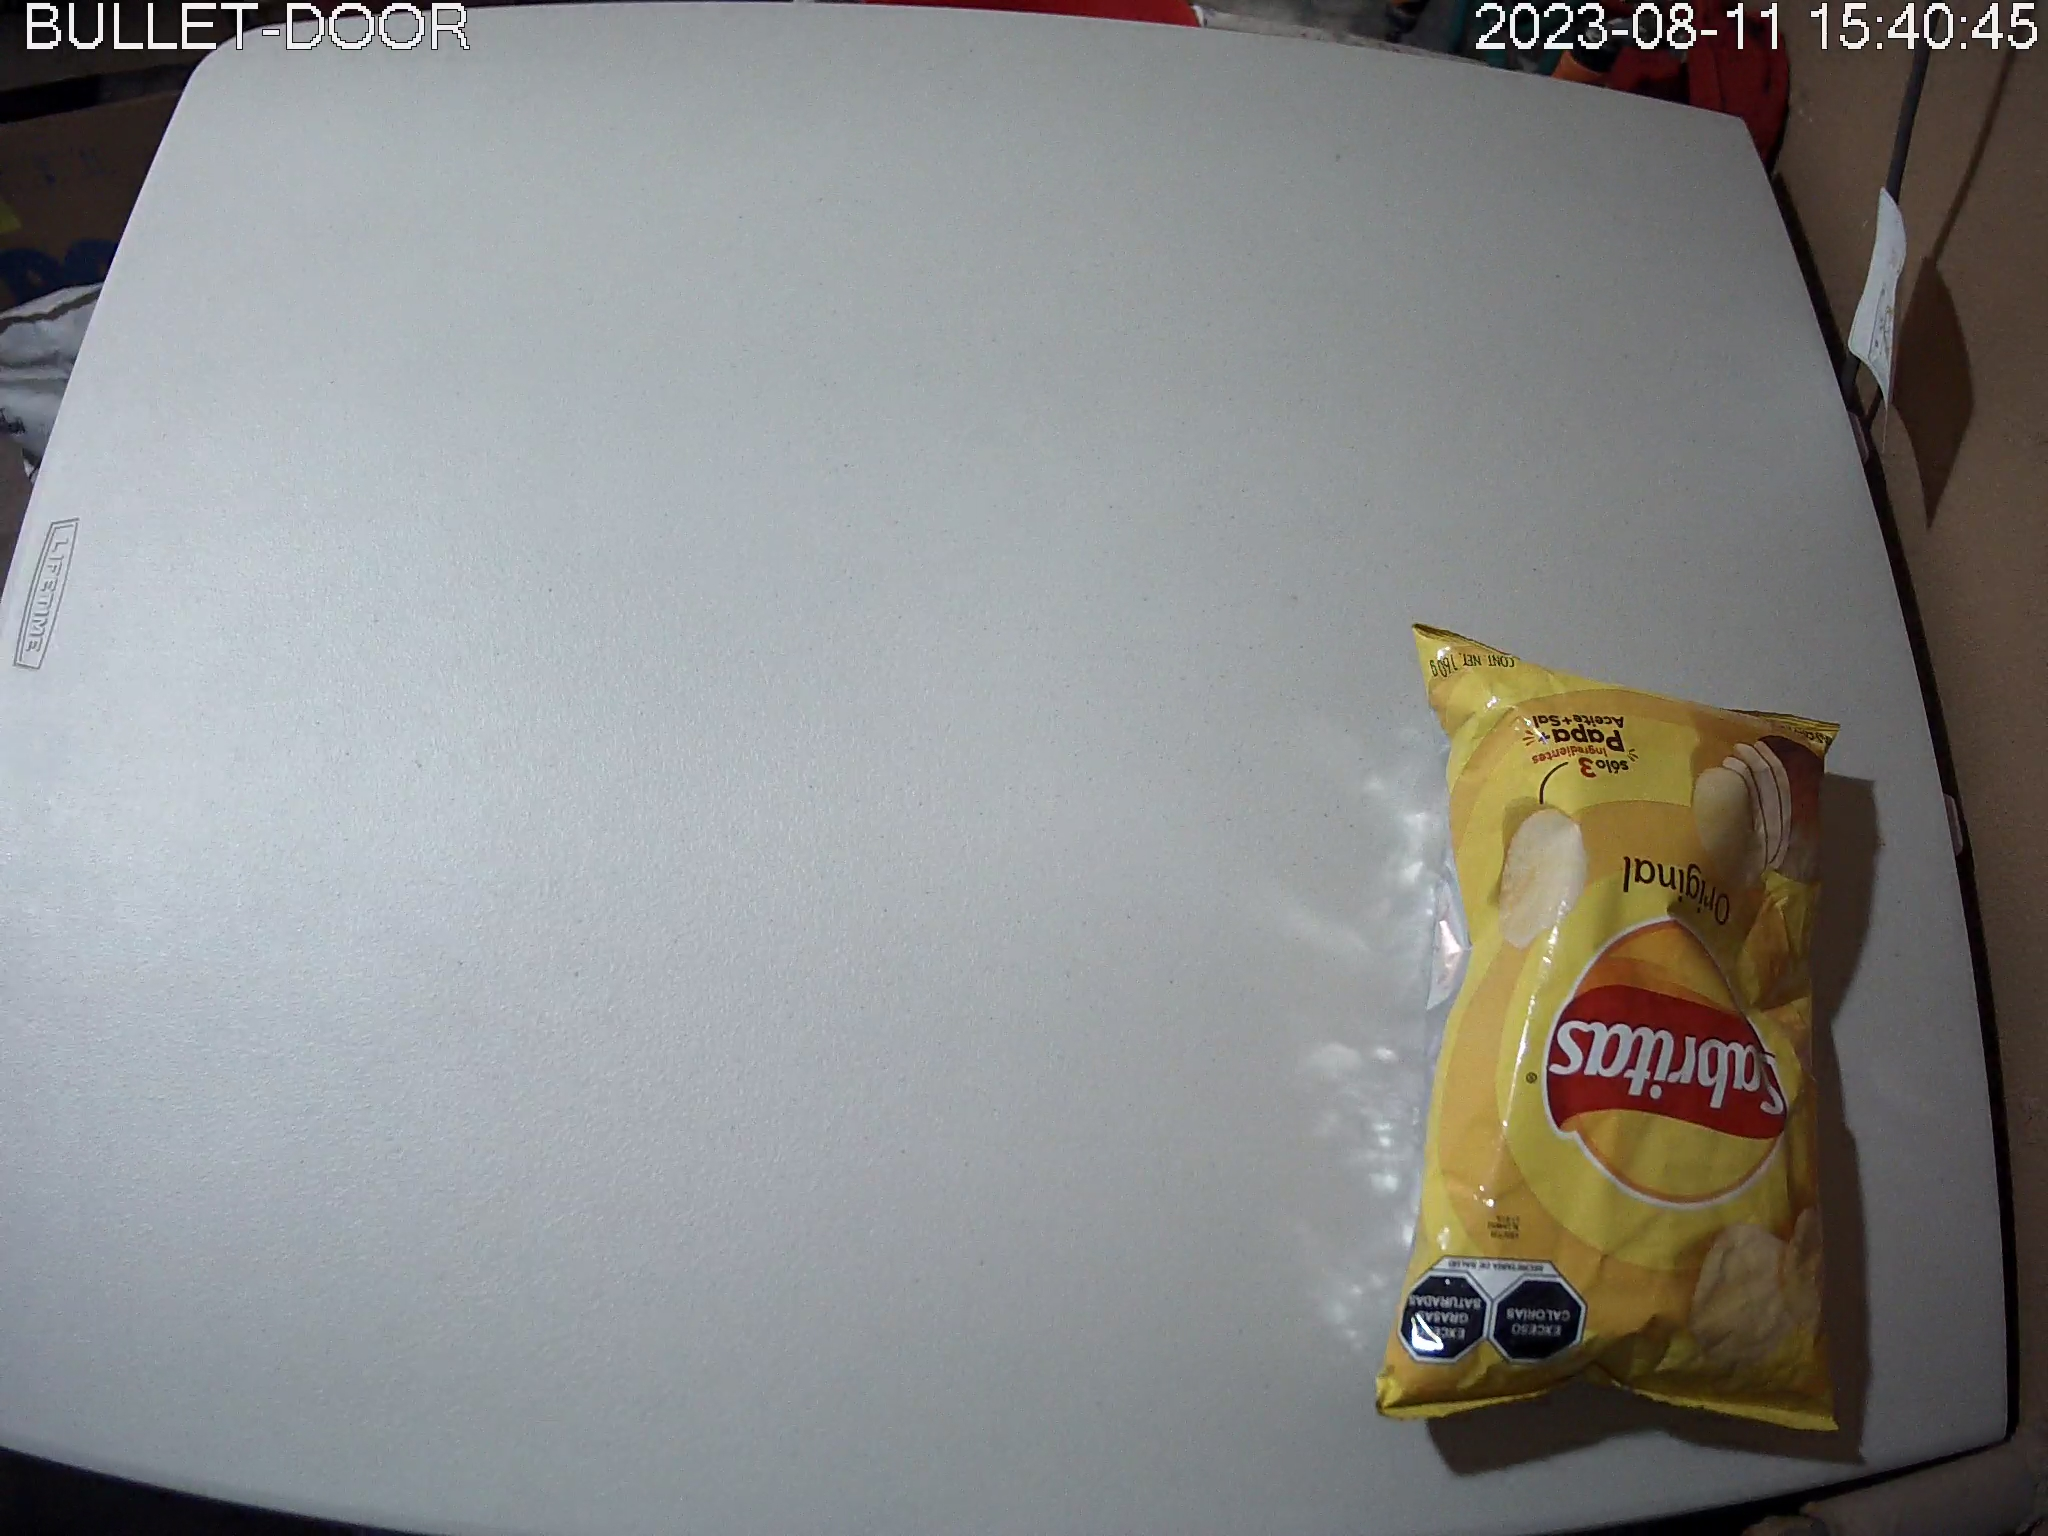Sabritas_160_F: (1372, 623, 1846, 1430)
